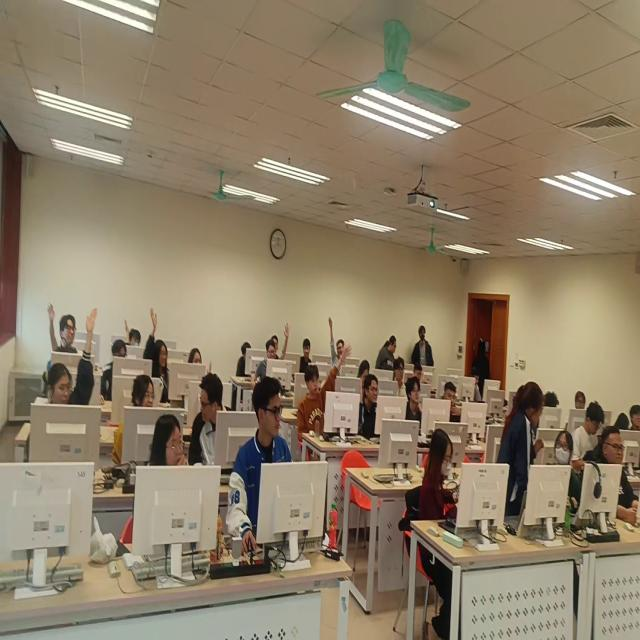raise_hand: (47, 309, 98, 467), (300, 348, 355, 456), (144, 306, 175, 401), (257, 325, 294, 394), (47, 303, 82, 371), (357, 372, 385, 439), (327, 315, 351, 373), (125, 318, 147, 364)
raise_head: (238, 384, 295, 543), (148, 419, 207, 540), (585, 427, 640, 531), (184, 342, 208, 399), (405, 379, 429, 436), (296, 338, 316, 375), (393, 357, 408, 403), (572, 394, 591, 419), (628, 403, 640, 437)
stand: (499, 383, 543, 528), (469, 339, 494, 405), (377, 337, 396, 390), (417, 329, 436, 378)
using_computer: (420, 423, 471, 551), (103, 340, 132, 400), (574, 407, 605, 463), (442, 387, 475, 431), (238, 343, 260, 389), (468, 373, 497, 404), (416, 365, 434, 400)
